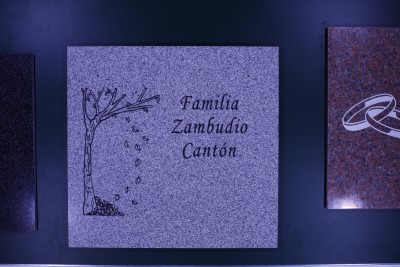lapidas: (67, 46, 278, 247)
